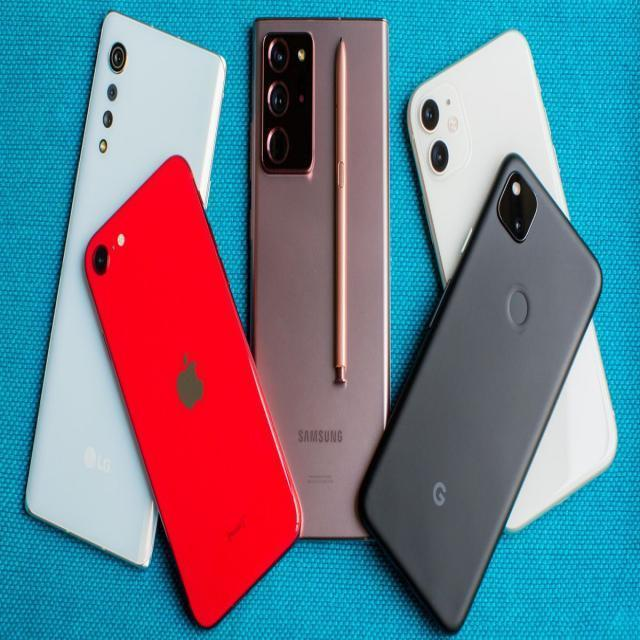Phone: (353, 150, 607, 640), (21, 8, 229, 577), (402, 27, 623, 538), (76, 150, 307, 636), (240, 14, 392, 544)
